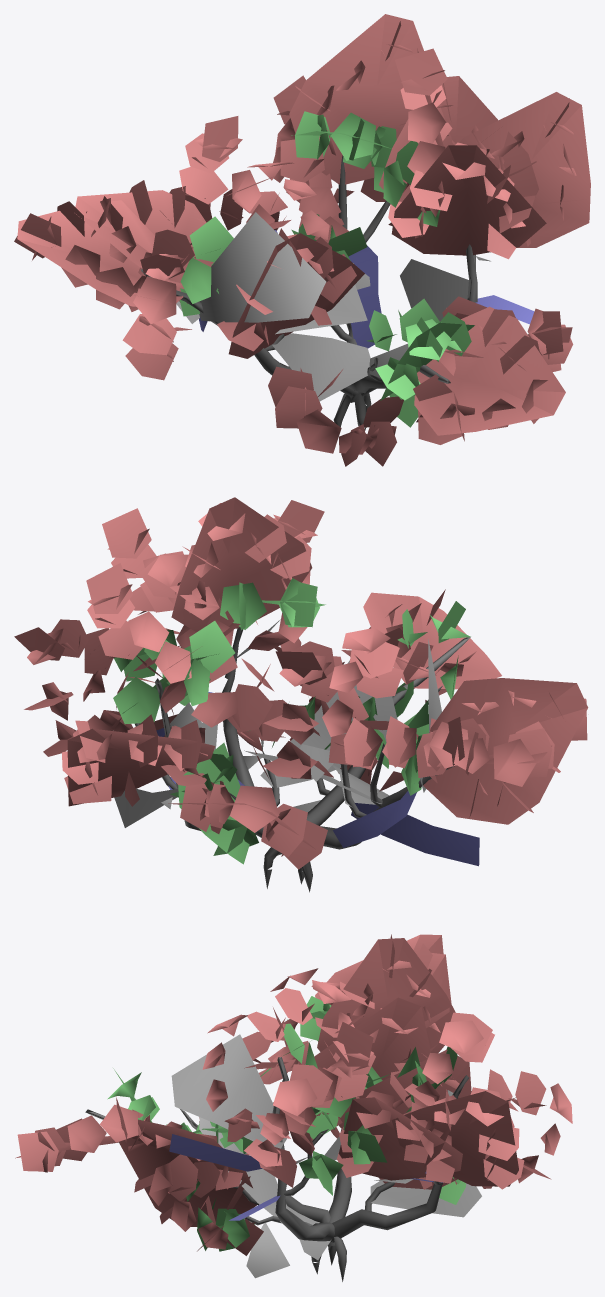
Rendered from SM_tree_pine_C.gltf.
The picture shows the model from 3 angles, top to bottom: view 1: azimuth 30°, elevation 25°; view 2: azimuth 150°, elevation 25°; view 3: azimuth 270°, elevation 25°; orthographic projection. The views are drawn at different scales.
Parts seen in each view (by area): view 1: SM_tree_pine_C; view 2: SM_tree_pine_C; view 3: SM_tree_pine_C.
Part boxes in pixels (<box>): SM_tree_pine_C: <box>14,14,590,466</box>; SM_tree_pine_C: <box>14,497,588,892</box>; SM_tree_pine_C: <box>15,934,572,1281</box>.
Size of the model in its own units: 2.94 by 2.09 by 3.24.
